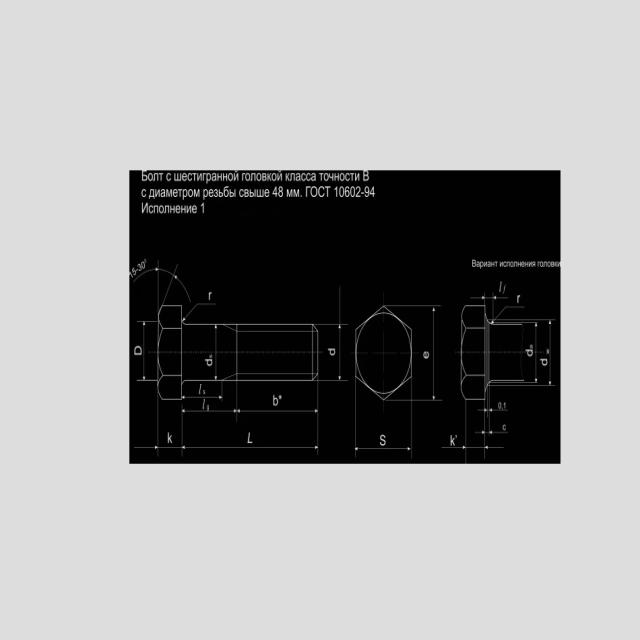marking_line: (135, 271, 191, 304), (183, 445, 317, 450), (237, 408, 318, 413), (432, 308, 436, 400), (141, 321, 147, 381), (183, 409, 237, 414), (338, 324, 342, 380), (355, 447, 411, 451), (214, 325, 218, 380), (549, 320, 552, 385), (535, 323, 538, 383), (182, 395, 222, 399), (133, 444, 157, 450), (440, 446, 466, 450), (489, 430, 509, 435), (486, 446, 504, 451), (493, 295, 509, 300), (489, 409, 508, 413), (470, 296, 485, 300), (474, 430, 484, 434), (478, 409, 487, 412)
numeric: (130, 259, 148, 278), (497, 401, 507, 410)
special_symbol: (182, 302, 217, 325)
